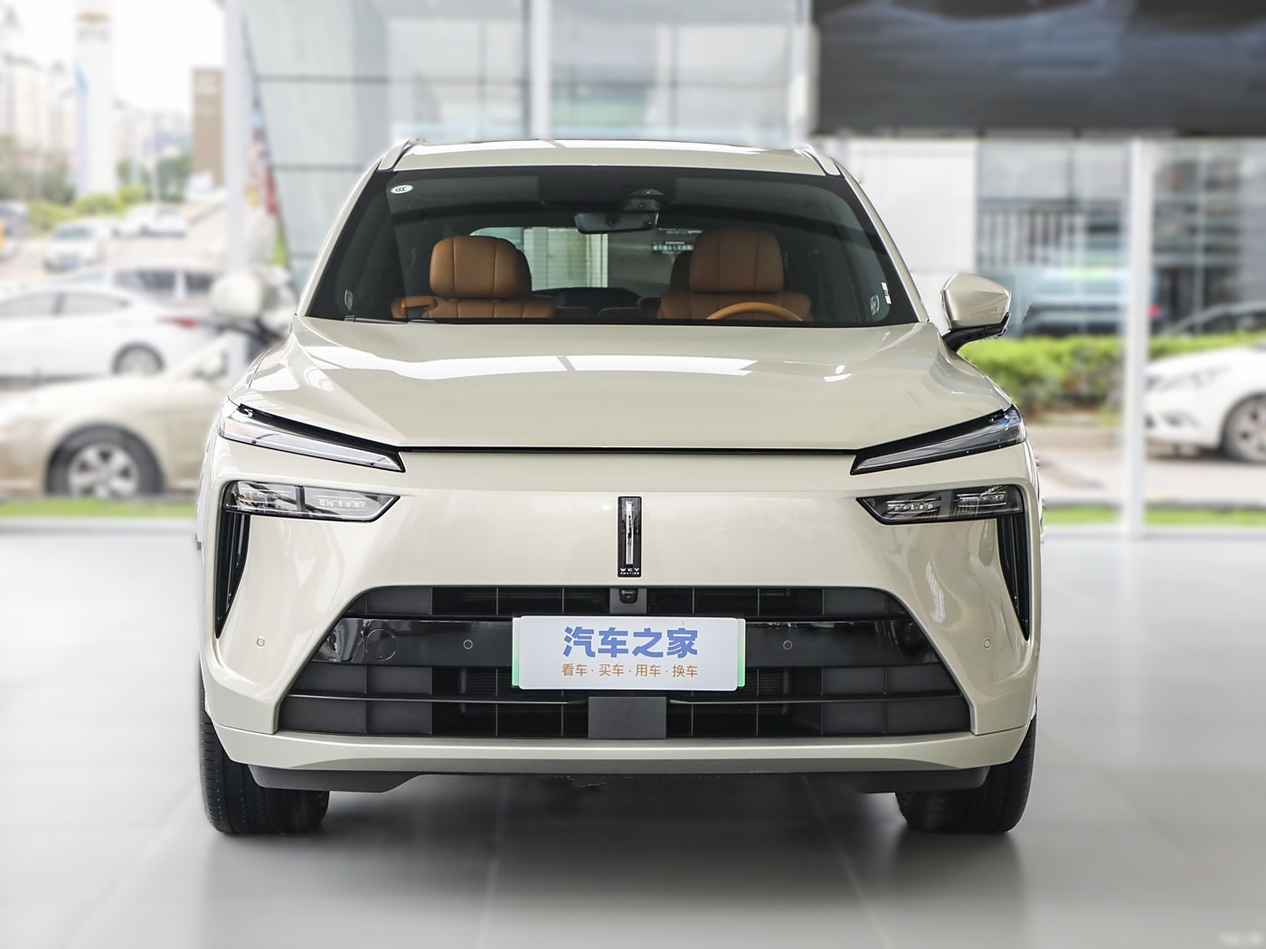WEY: (618, 497, 641, 577)
